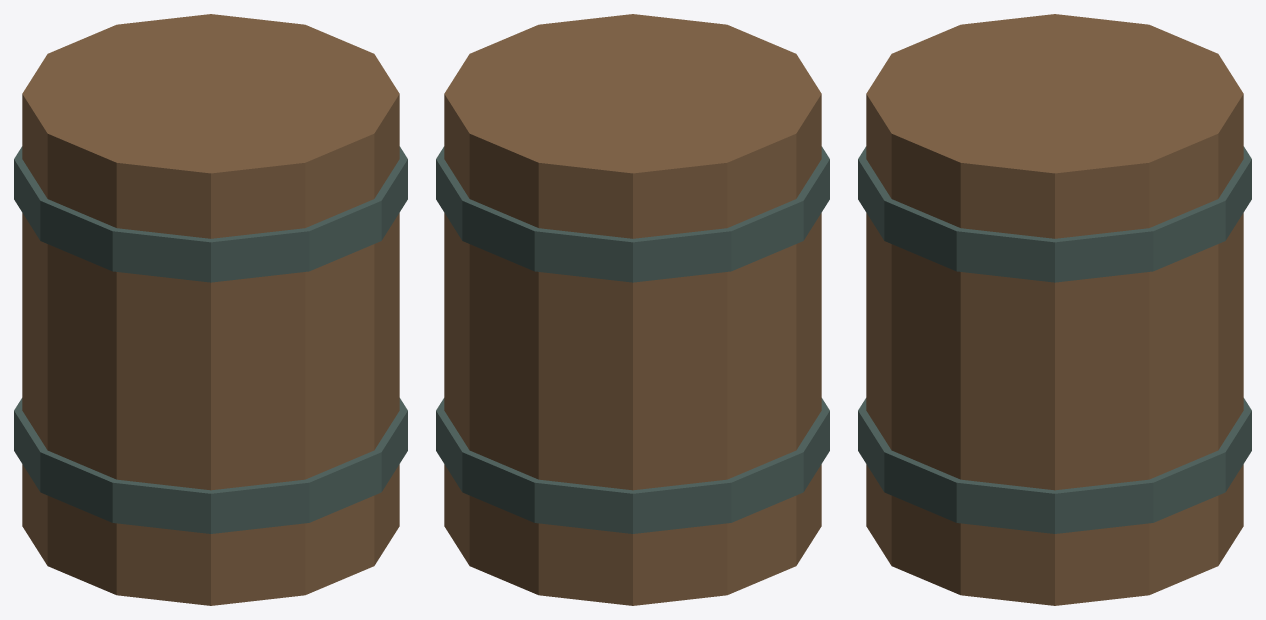
File: barrel.gltf
3 renders of one model, left to right at view 1: azimuth 30°, elevation 25°; view 2: azimuth 150°, elevation 25°; view 3: azimuth 270°, elevation 25°, orthographic.
Bounding box in the file's own units: 0.71 × 0.86 × 0.71.
